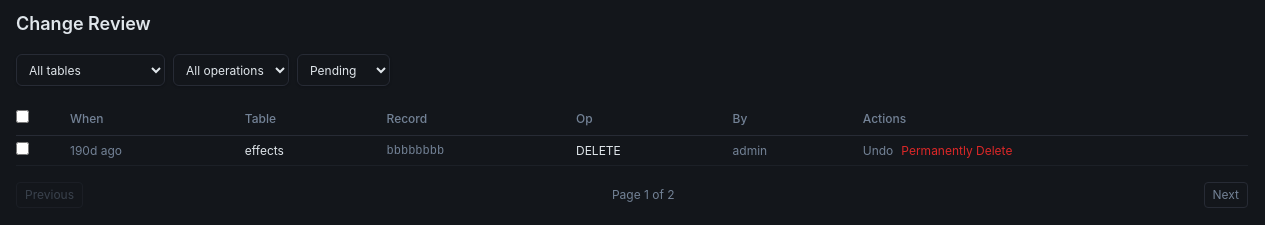
Test: ChangeReviewPage › auto-navigates to previous page when current page entries are all removed
expect the text "DELETE" is shown: met, box [576,136,733,166]
Click the button "Undo" at (878, 150), box [863,142,893,158]
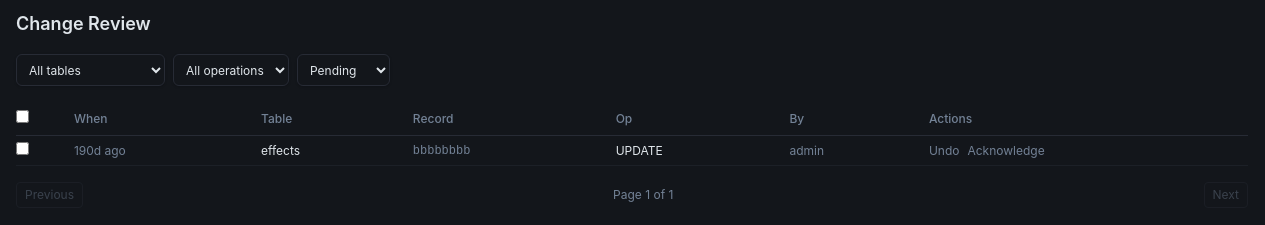
expect the text "DELETE" is gone: met
